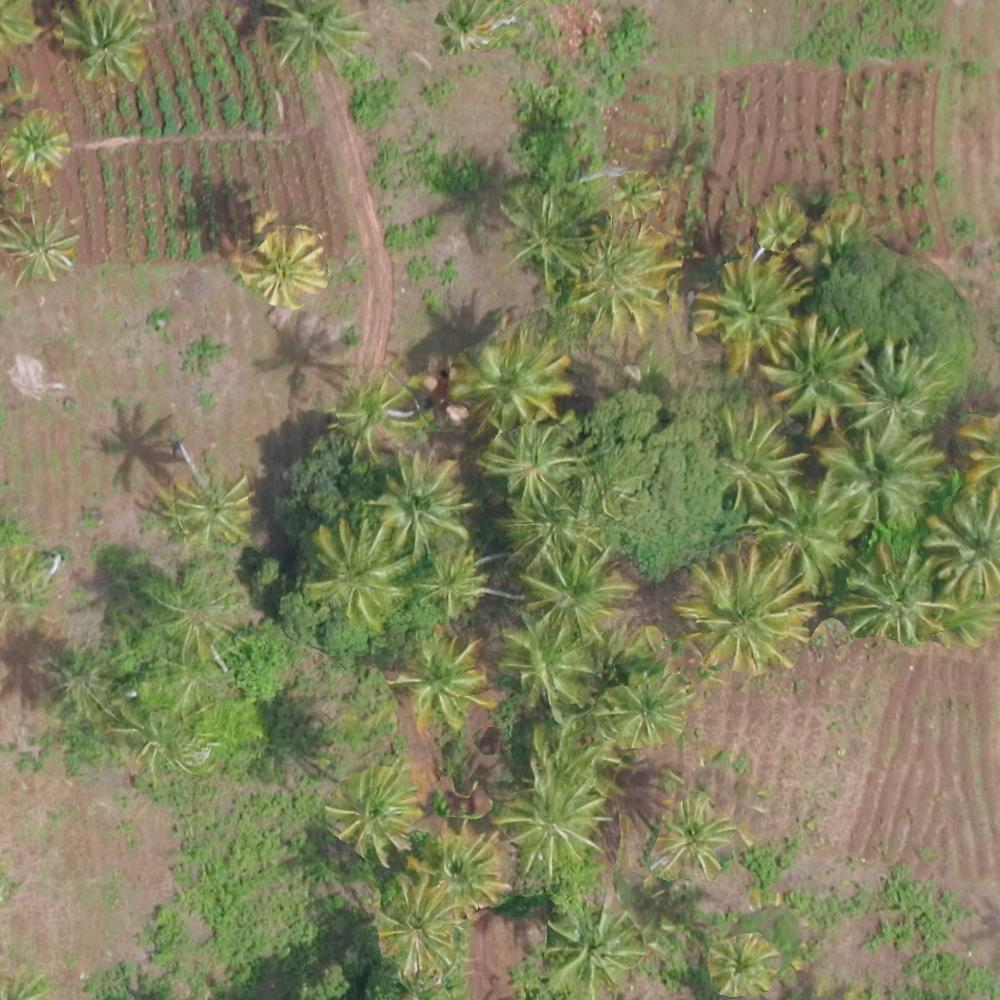Palm: (686, 550, 811, 674), (821, 417, 940, 526), (770, 318, 870, 432), (752, 474, 848, 586), (454, 332, 563, 428), (576, 223, 674, 329), (308, 521, 405, 627), (710, 404, 808, 507), (374, 449, 471, 552), (522, 545, 625, 636), (838, 544, 936, 639), (698, 262, 794, 358), (498, 614, 595, 706), (499, 780, 596, 872), (390, 639, 489, 724), (854, 339, 940, 436), (544, 897, 633, 988), (927, 484, 999, 594), (501, 190, 588, 281), (417, 822, 504, 912), (52, 4, 148, 85), (338, 371, 426, 459), (159, 464, 247, 551), (525, 712, 614, 798), (331, 771, 419, 855), (375, 881, 455, 972), (266, 1, 361, 77), (503, 495, 591, 576), (241, 225, 320, 304), (603, 673, 685, 749), (485, 428, 569, 500), (1, 205, 74, 282), (660, 802, 728, 875), (1, 116, 67, 185), (413, 550, 483, 614), (709, 938, 775, 997)
